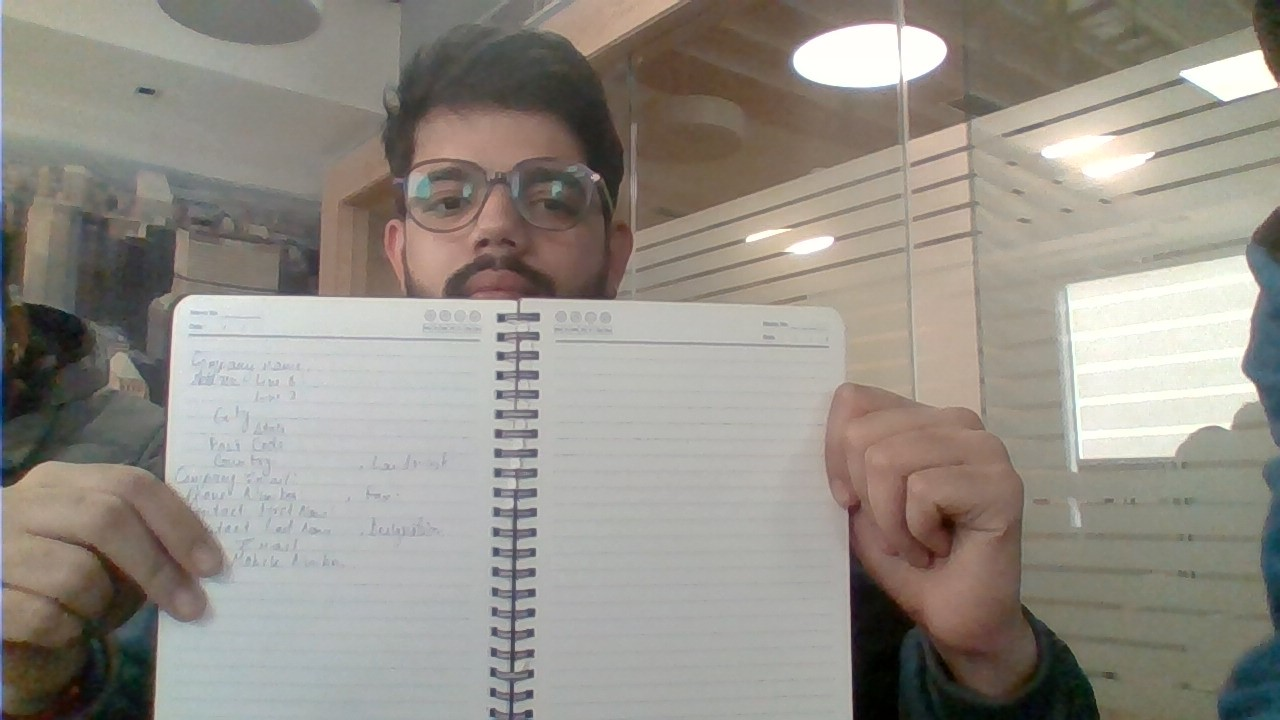notebook: (157, 291, 525, 720), (512, 290, 862, 720)
